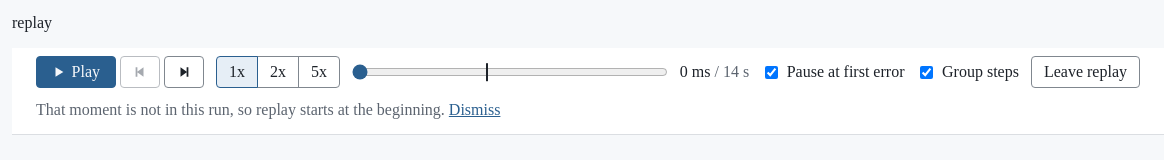
ReplayTransport (wide) › says so, politely, when the playhead in the URL is not in the run
Check: the text "That moment is not in this run, so replay starts at the beginning. Dismiss" is shown, box [36,94,500,126]
Click the button "Dismiss" at {"x": 475, "y": 110}, box [449,94,500,126]
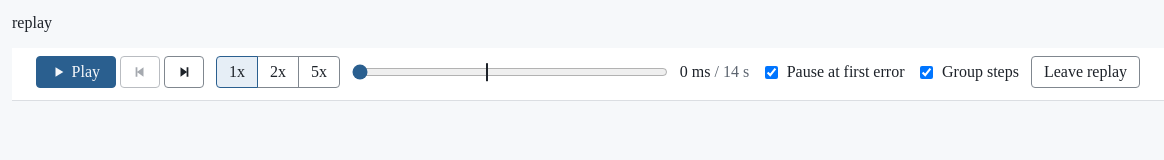
Check: the text "That moment is not in this run" is gone
